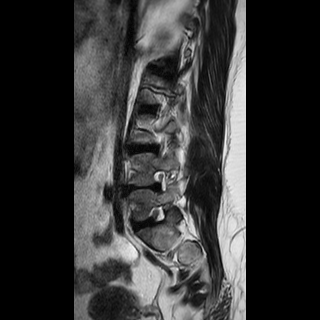RFS0: (142, 199, 171, 233), (144, 163, 173, 197)
